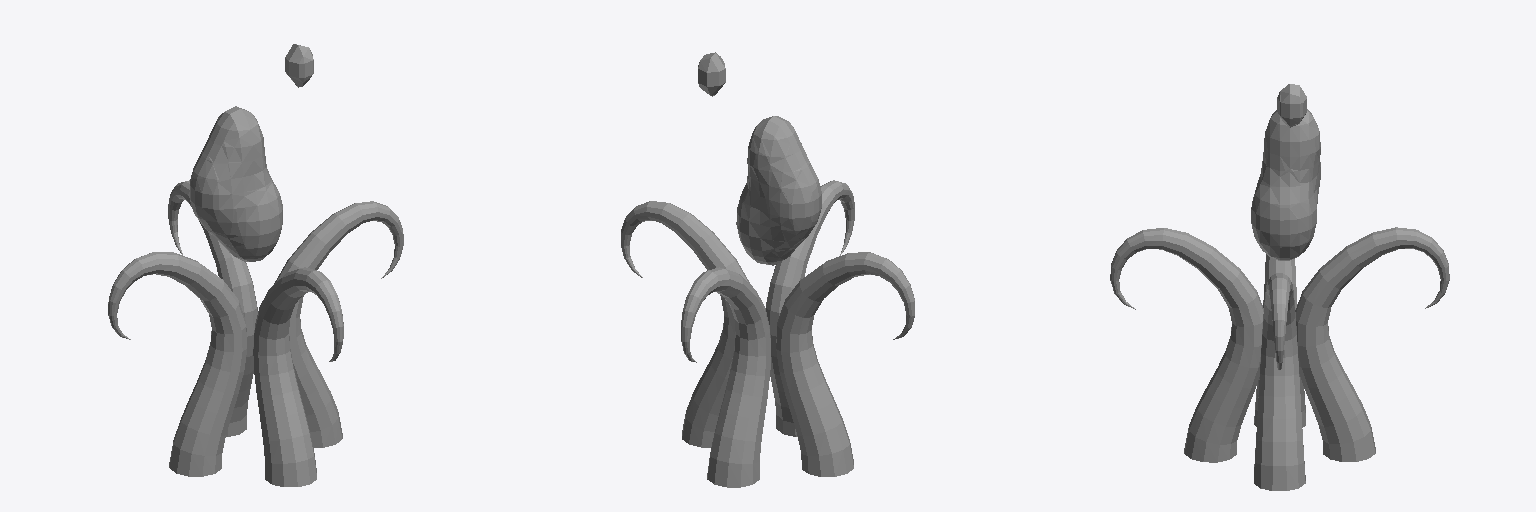
The model's file is Tree_Spikes_1_CUBezierCurve.obj.
3 views of the same model, side by side, from view 1: azimuth 30°, elevation 25°; view 2: azimuth 150°, elevation 25°; view 3: azimuth 270°, elevation 25° (orthographic).
Parts seen in each view (by area): view 1: Tree_Spikes_1_CUBezierCurve.004; view 2: Tree_Spikes_1_CUBezierCurve.004; view 3: Tree_Spikes_1_CUBezierCurve.004.
Boxes of the visible parts, box(x1,y1,x2,y2) form: Tree_Spikes_1_CUBezierCurve.004: box(108, 44, 403, 486); Tree_Spikes_1_CUBezierCurve.004: box(621, 52, 914, 487); Tree_Spikes_1_CUBezierCurve.004: box(1110, 84, 1449, 490).
Size of the model in its own units: 4.05 by 5.15 by 4.05.